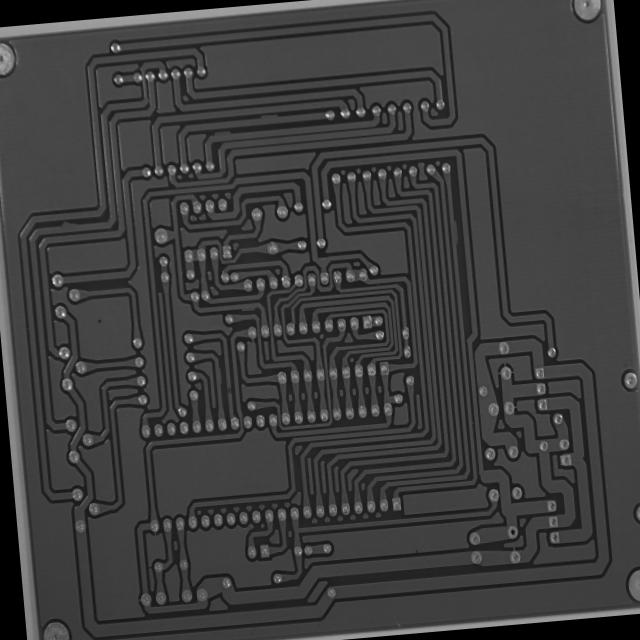spur: (448, 216, 460, 250), (210, 127, 233, 141), (258, 109, 280, 123), (56, 218, 78, 231), (214, 364, 225, 389)
